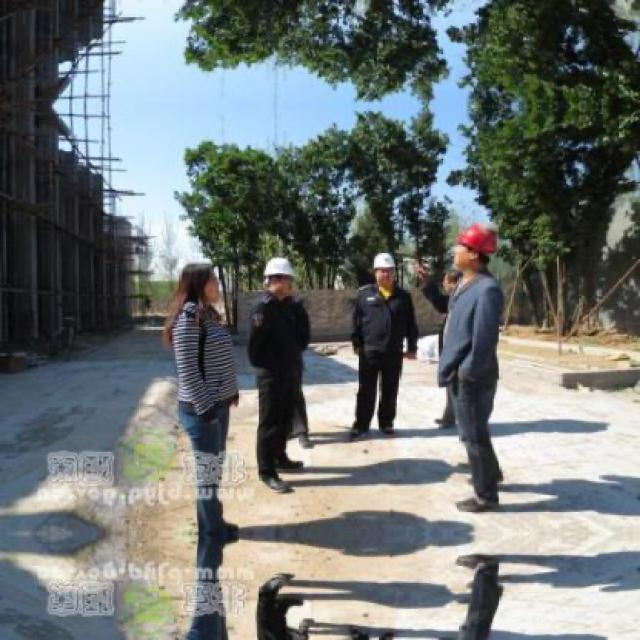con casco: (378, 215, 536, 302), (248, 251, 312, 304), (352, 245, 403, 310)
